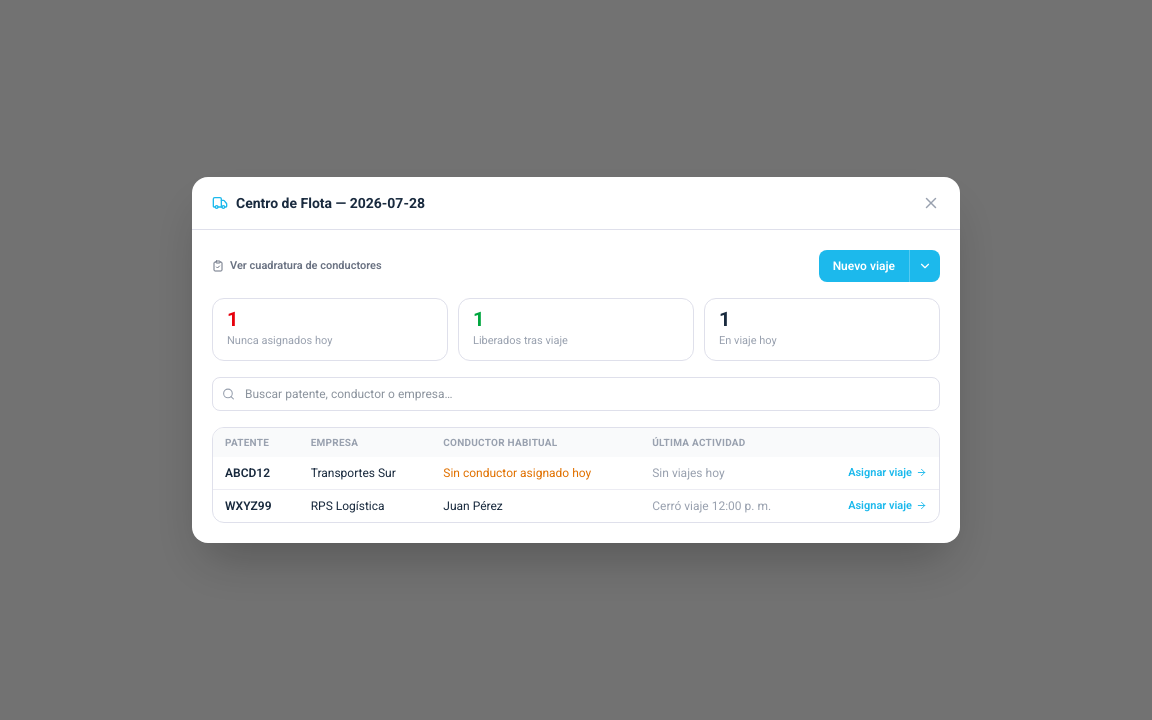
Scenario: FleetCenterDialog › la búsqueda filtra por patente, empresa o conductor
Expected: the text "ABCD12" is shown, [213,457,299,489]
Type "Juan" into the field named "Buscar equipo".
click(576, 394); type("Juan")  # box [212,377,940,411]
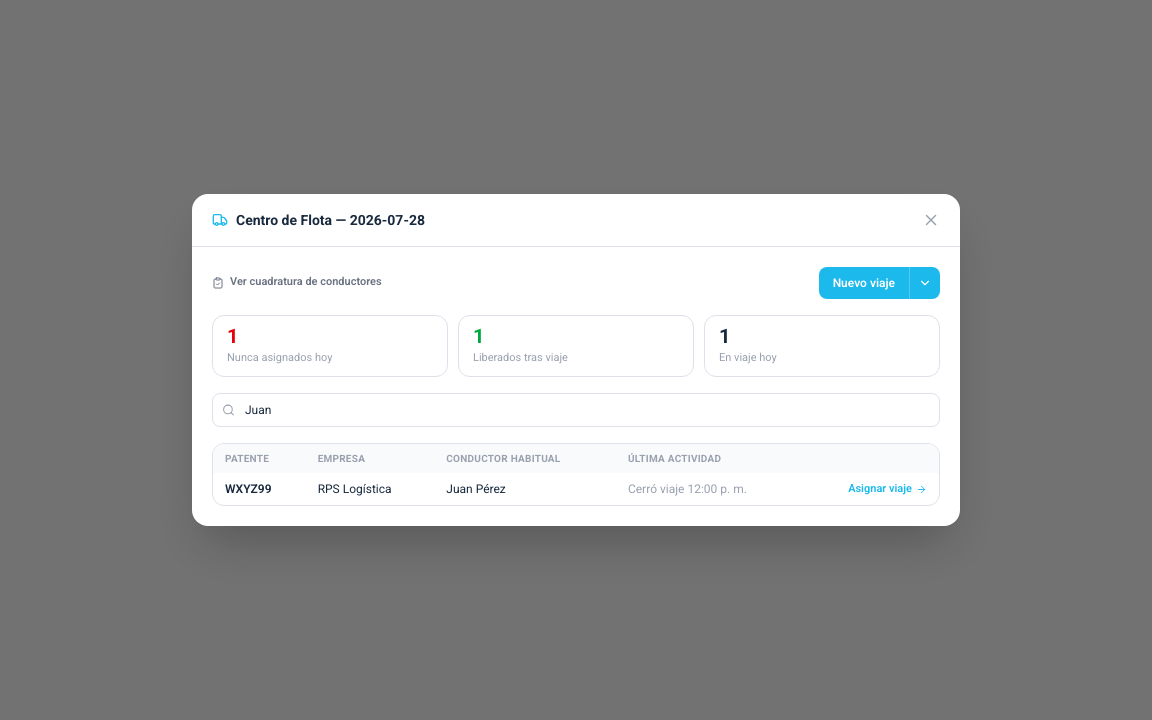
Expected: the text "WXYZ99" is shown, [213,473,306,505]
Expected: the text "ABCD12" is gone
